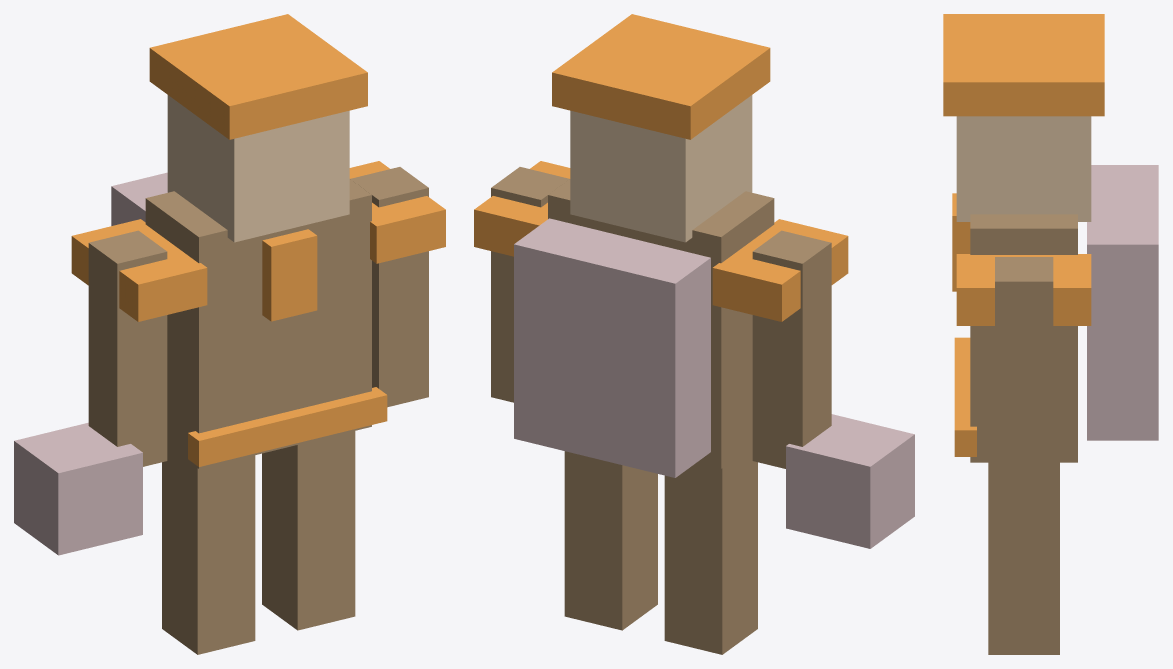
Rendered from 18_makoa_frostrelay_ranger_under_summit.glb.
3 renders of one model, left to right at view 1: azimuth 30°, elevation 25°; view 2: azimuth 150°, elevation 25°; view 3: azimuth 270°, elevation 25°, orthographic.
Visible parts, largest first — view 1: Makoa Frostrelay, Ranger under Summit; view 2: Makoa Frostrelay, Ranger under Summit; view 3: Makoa Frostrelay, Ranger under Summit.
Part boxes in pixels (<box>): Makoa Frostrelay, Ranger under Summit: <box>14,14,445,654</box>; Makoa Frostrelay, Ranger under Summit: <box>474,14,914,654</box>; Makoa Frostrelay, Ranger under Summit: <box>943,14,1158,654</box>.
Size of the model in its own units: 1.01 by 1.42 by 0.4879.
